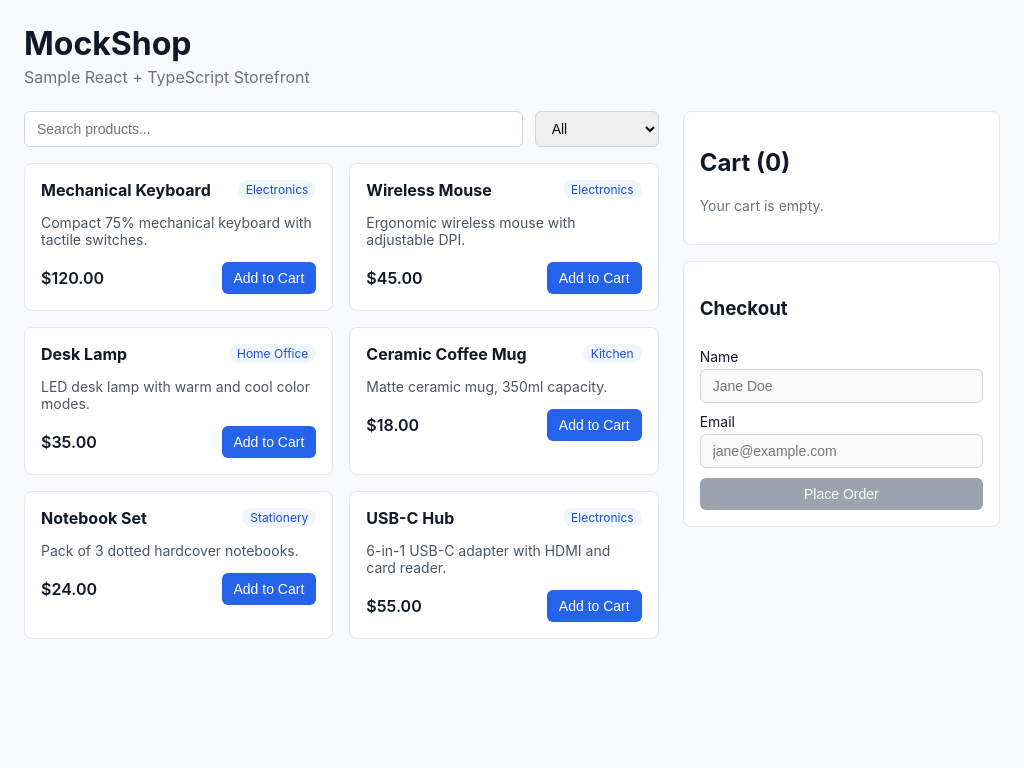
Scenario: MockShop App › adds items to cart, updates quantity, and applies promo code
Click the button "Add to Cart" next to "120.00" at x=269, y=278, box [222,262,316,294]
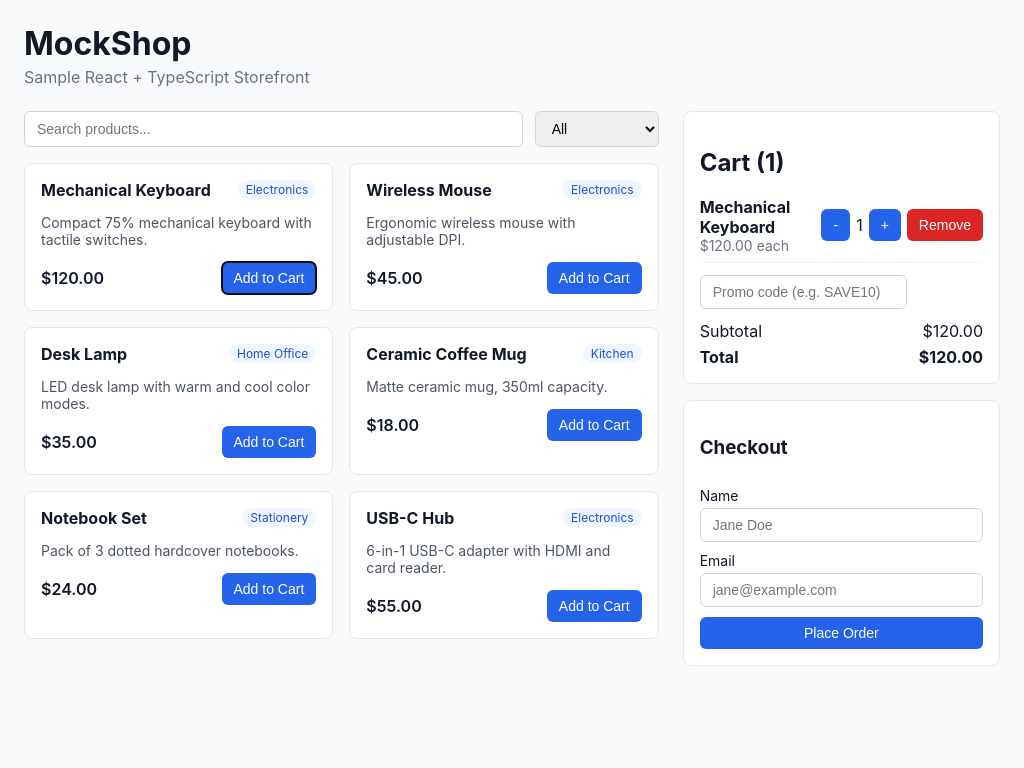
expect the text with test id "cart-total" reads "$120.00": met, box [919,347,983,367]
Click the button named "Increase quantity of Mechanical Keyboard" at x=885, y=225, box [869,209,901,241]
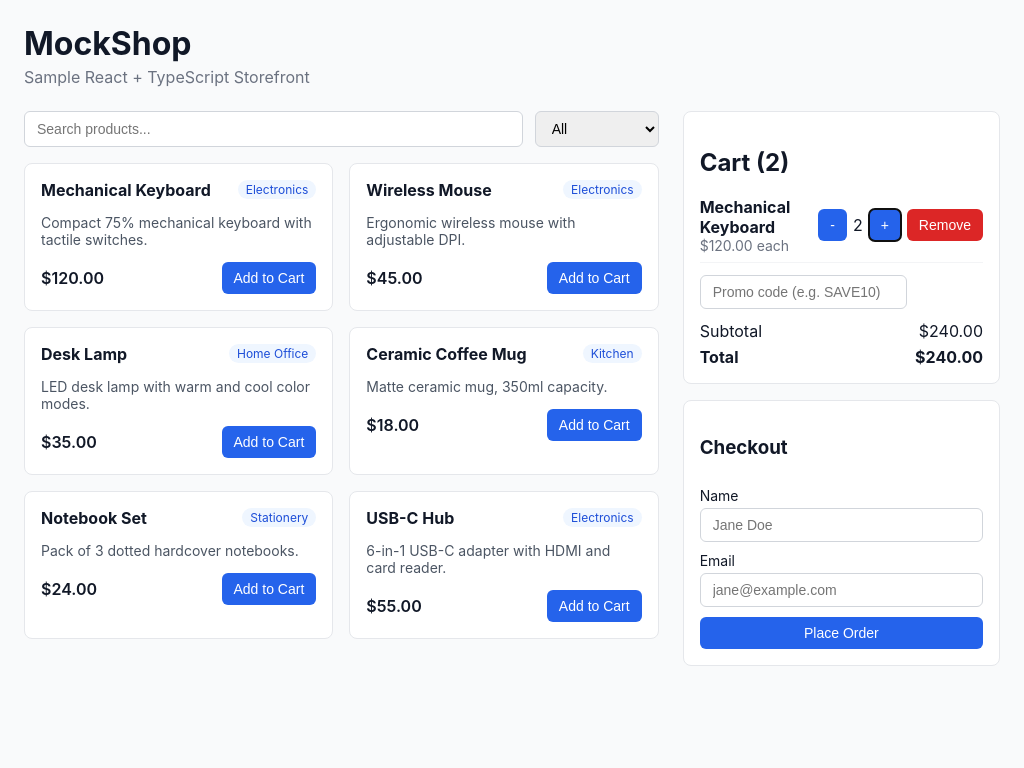
expect the text with test id "qty-prod-1" reads "2": met, box [853,215,863,235]
expect the text with test id "cart-subtotal" reads "$240.00": met, box [919,321,983,341]
Type "SAVE10" into the field labelled "Promo code" at x=803, y=292, box [700,275,907,309]
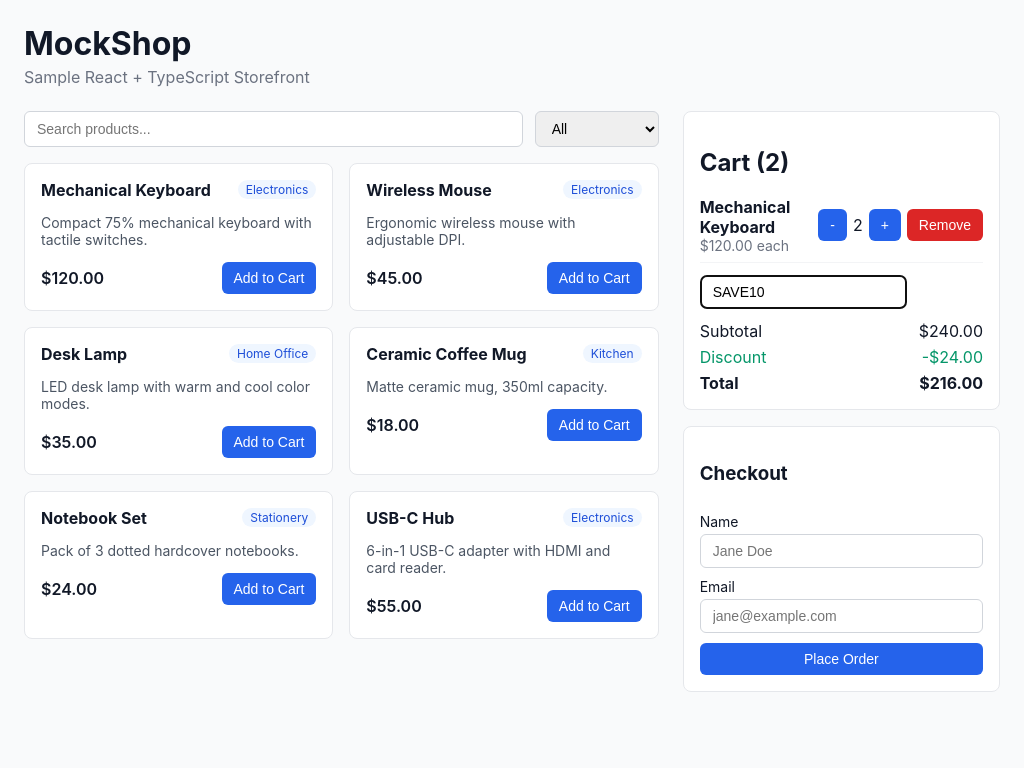
expect the text with test id "cart-discount" reads "-$24.00": met, box [922,347,983,367]
expect the text with test id "cart-total" reads "$216.00": met, box [919,373,983,393]
